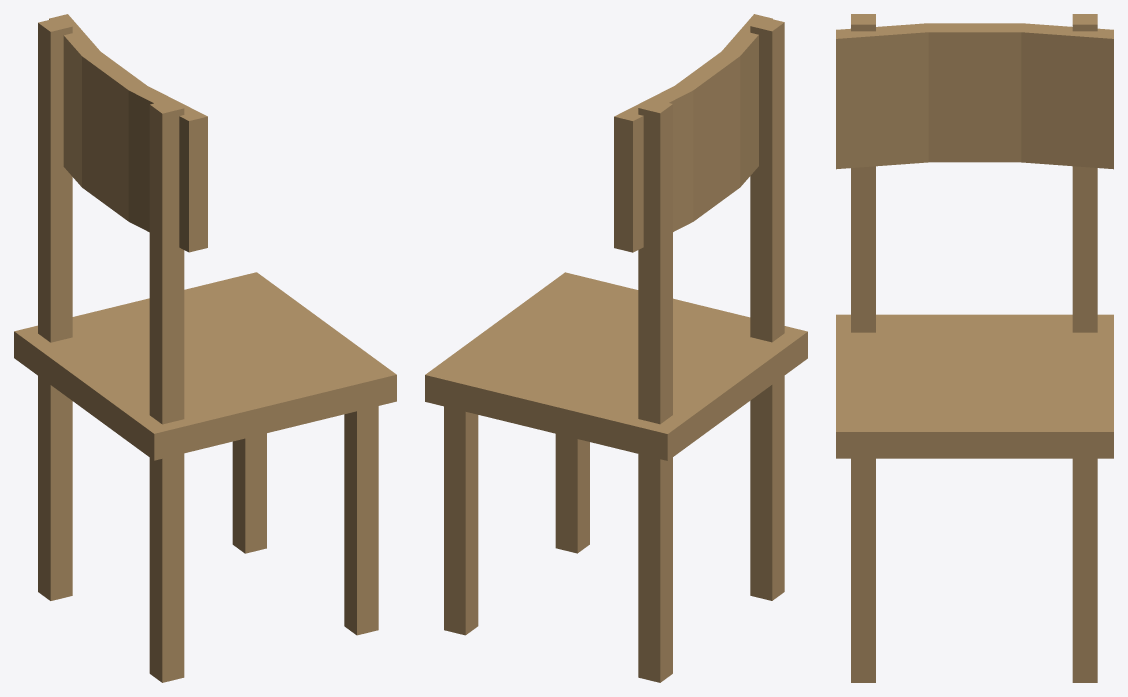
The model's file is wooden_chair.glb.
3 views of the same model, side by side, from view 1: azimuth 30°, elevation 25°; view 2: azimuth 150°, elevation 25°; view 3: azimuth 270°, elevation 25° (orthographic).
Size of the model in its own units: 1.05 by 2.36 by 1.05.
Materials: 1 (1 with a texture image).
